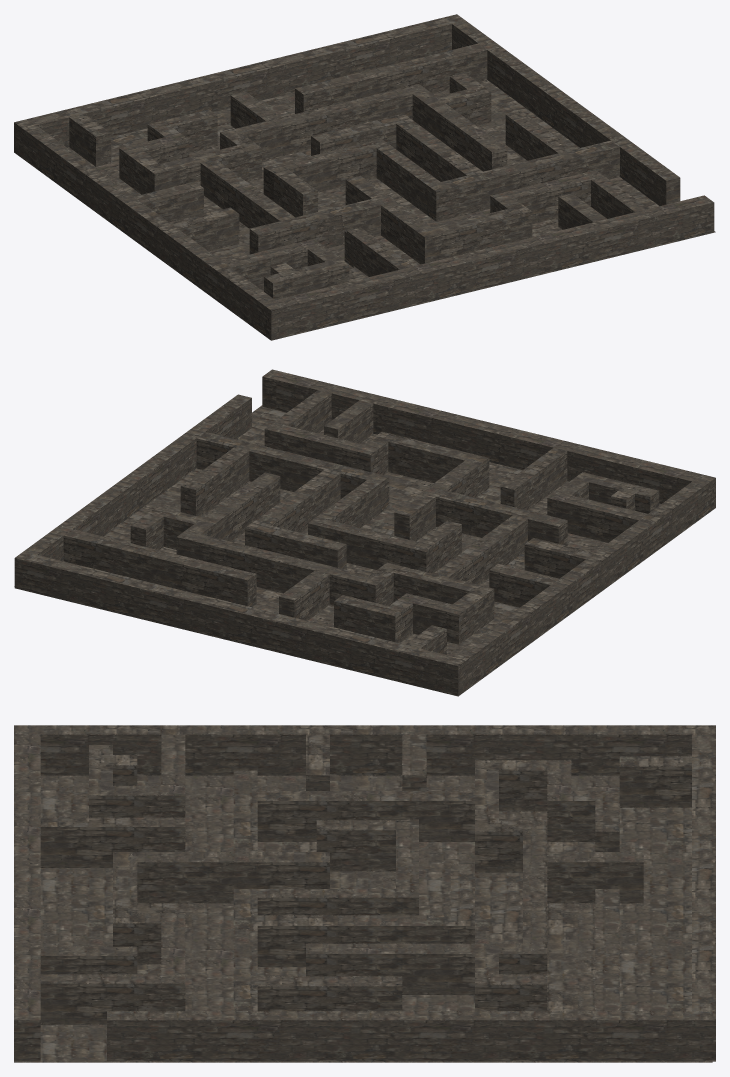
Rendered from Sprite.fbx.
3 views of the same model, one above another, from view 1: azimuth 30°, elevation 25°; view 2: azimuth 150°, elevation 25°; view 3: azimuth 270°, elevation 25° (orthographic). The views are drawn at different scales.
Parts seen in each view (by area): view 1: Cube, Sprite; view 2: Cube, Sprite; view 3: Cube, Sprite.
Part boxes in pixels (<box>): Cube: <box>14,14,714,340</box>; Sprite: <box>68,80,715,291</box>; Cube: <box>14,369,715,696</box>; Sprite: <box>14,405,660,656</box>; Cube: <box>14,725,715,1061</box>; Sprite: <box>14,775,712,1062</box>.
Bounding box in the file's own units: 25423 × 1689 × 25471.
